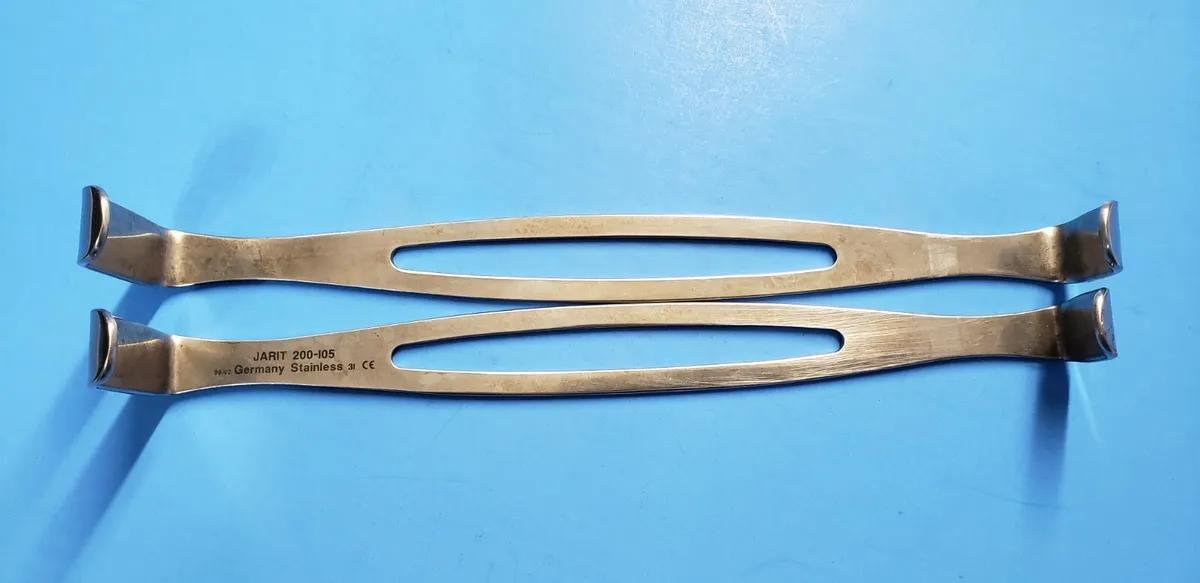Army Navy Retractor: (65, 162, 1136, 306), (39, 293, 1128, 400)
